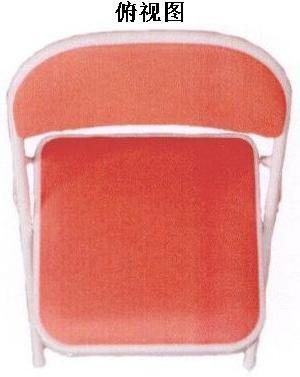obstacle: (8, 30, 290, 367)
